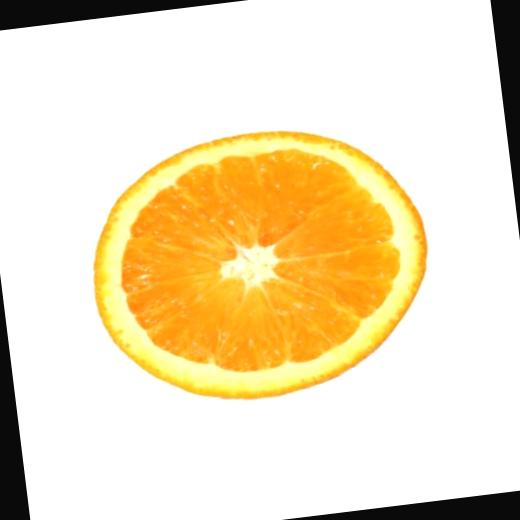Grape: (82, 113, 446, 416)
